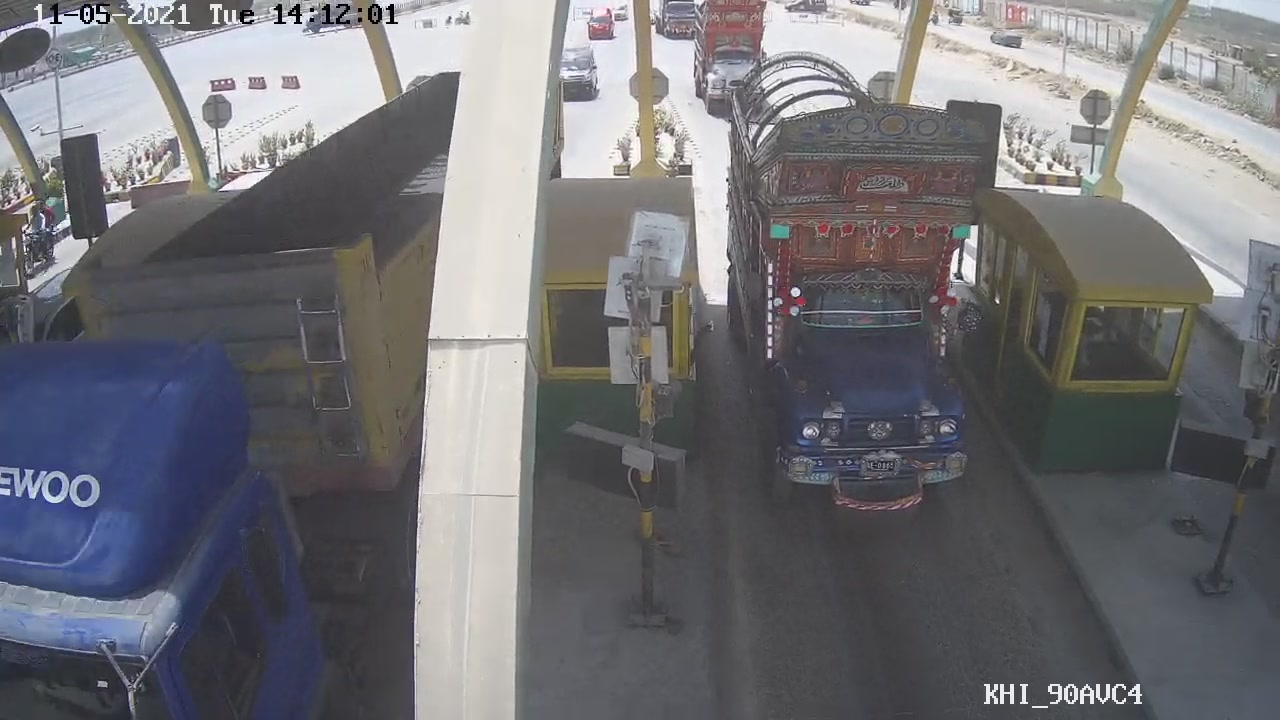F5: (715, 63, 999, 526)
